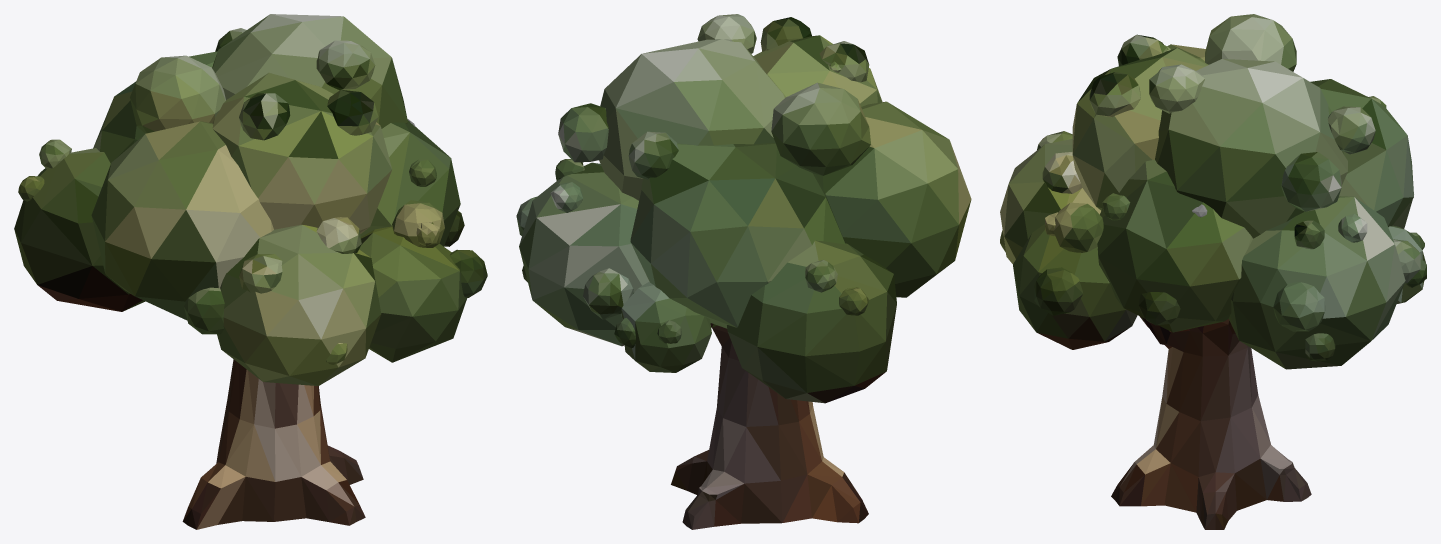
The model's file is Tree_Deciduous.glb.
The picture shows the model from 3 angles, left to right: view 1: azimuth 30°, elevation 25°; view 2: azimuth 150°, elevation 25°; view 3: azimuth 270°, elevation 25°; orthographic projection. The views are drawn at different scales.
Visible parts, largest first — view 1: world; view 2: world; view 3: world.
Part boxes in pixels (bbox=[...]): world: bbox=[14, 14, 487, 529]; world: bbox=[516, 14, 971, 529]; world: bbox=[1000, 14, 1426, 529].
Bounding box in the file's own units: 0.3984 × 0.4512 × 0.3906.
